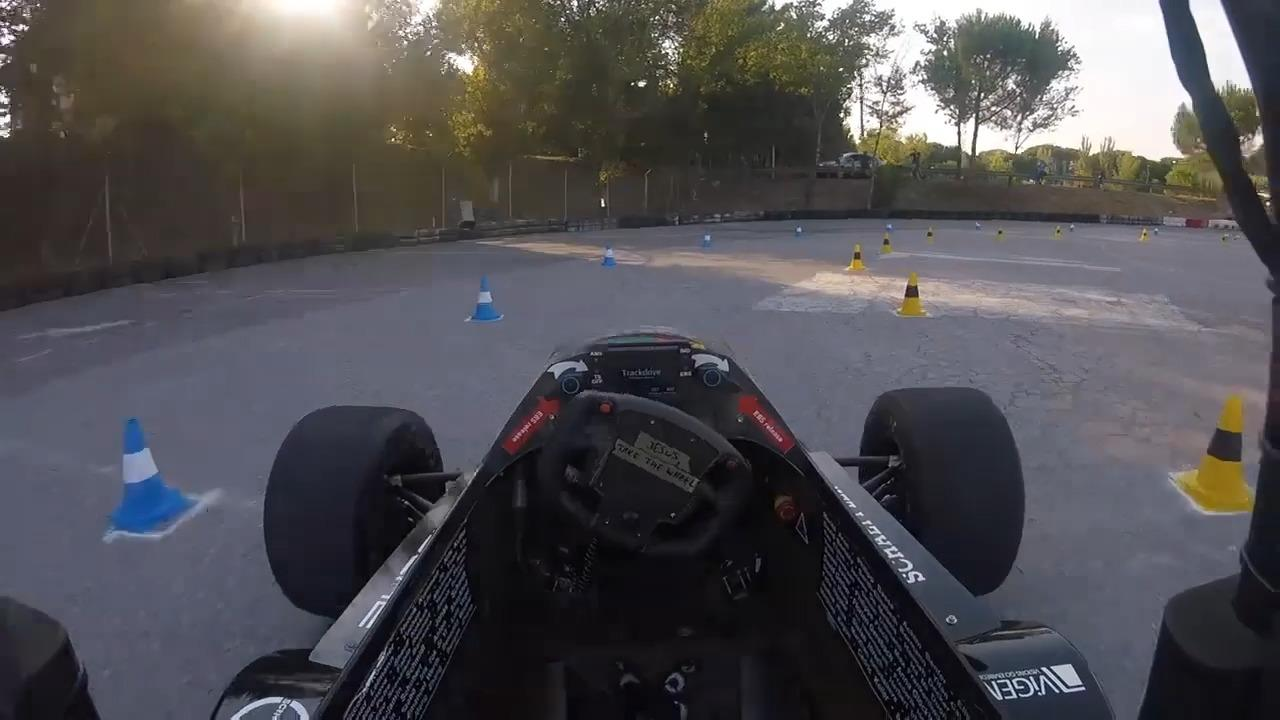blue_cone: (87, 403, 216, 543), (464, 268, 511, 327), (592, 232, 625, 273), (693, 222, 718, 247)
yellow_cone: (1181, 381, 1265, 520), (893, 257, 938, 335), (844, 238, 867, 270), (878, 227, 900, 253)
